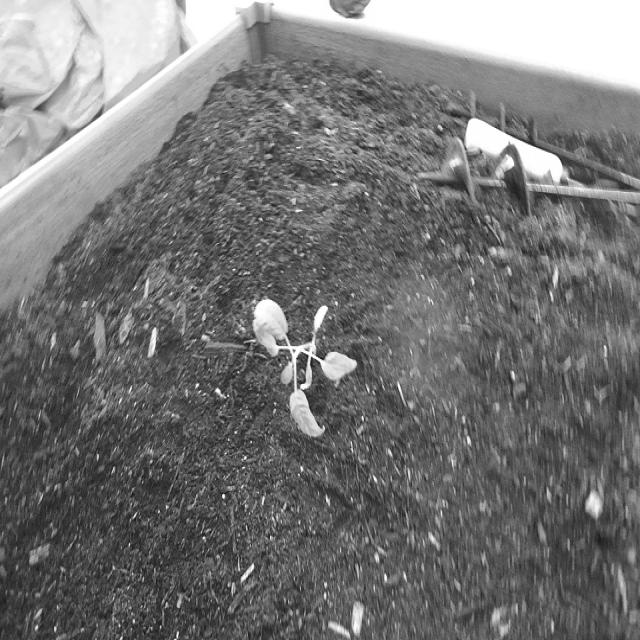Healthy: (253, 295, 359, 441)
